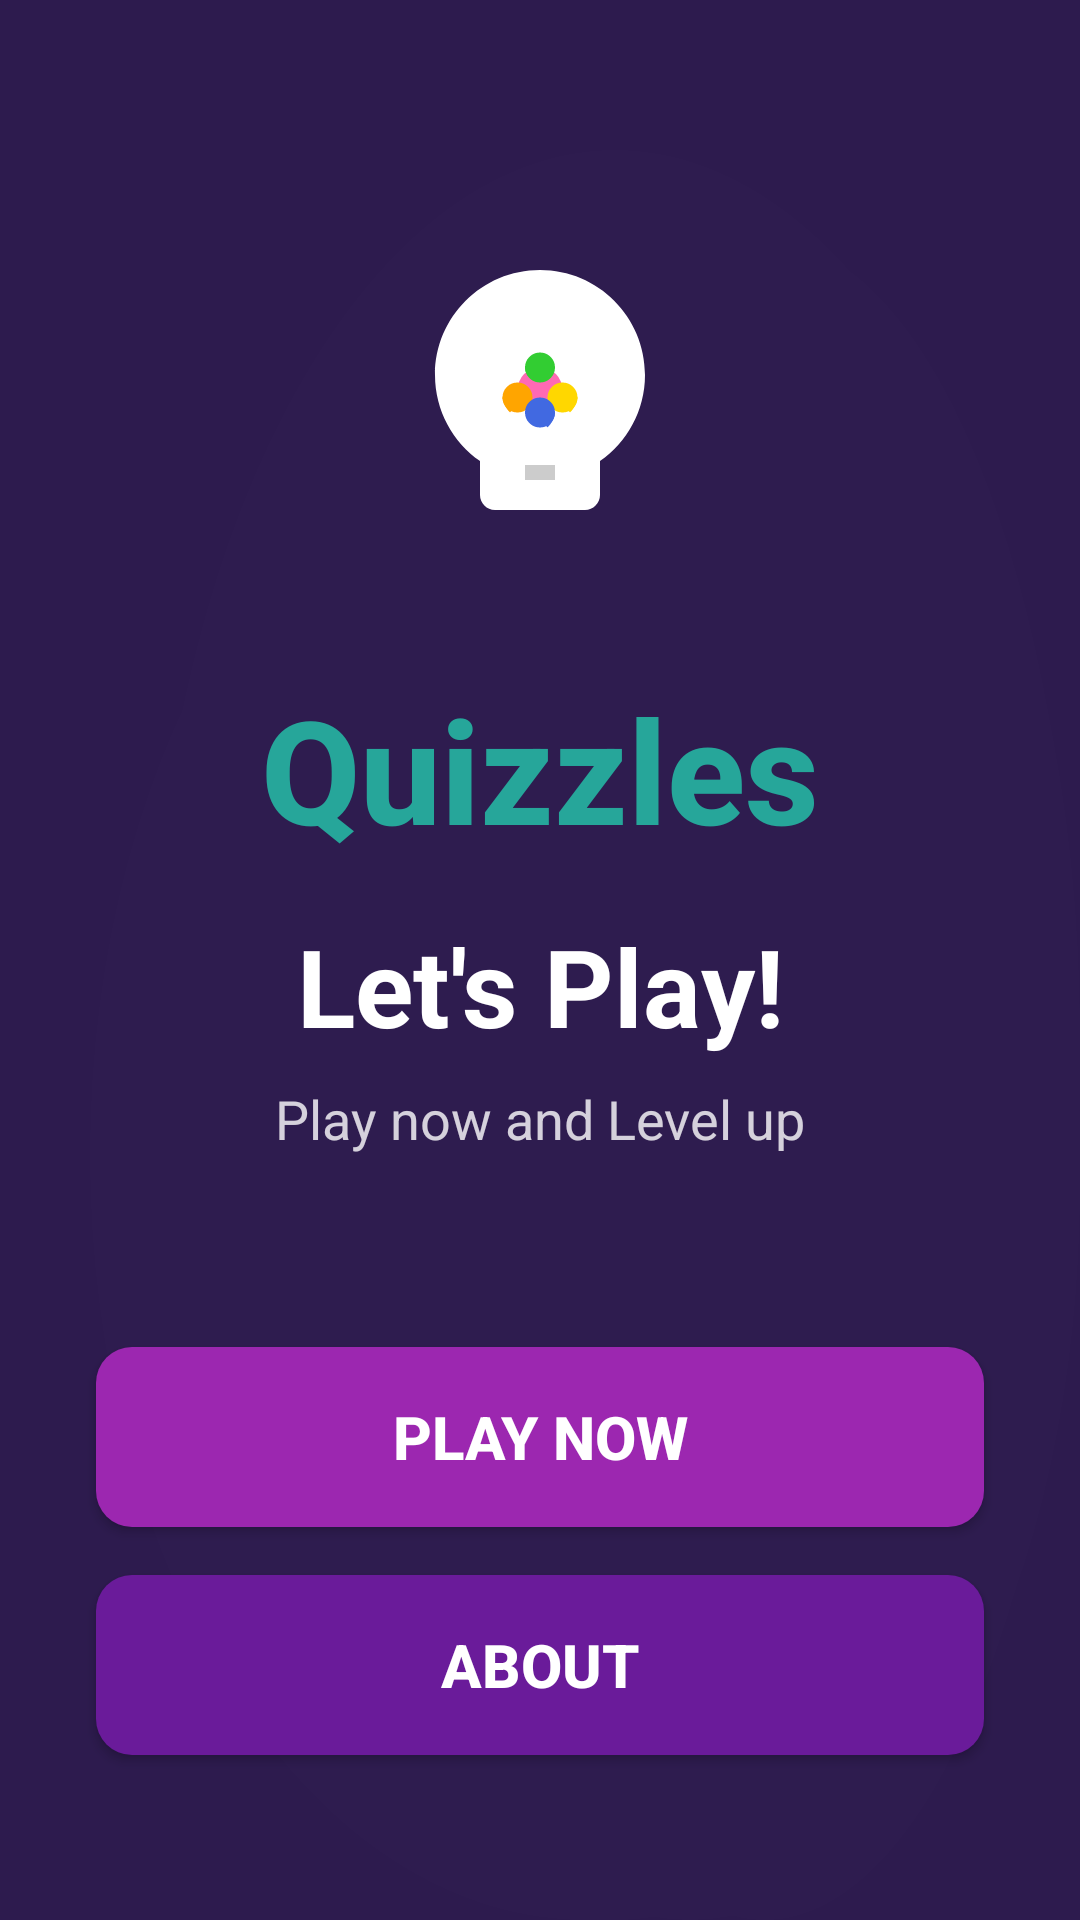

Locate icon controls on the screen. Image size 1080*1920, boxes as {"left": x1, "top": y1, "right": x2, "bottom": y2}.
lightbulb: {"left": 435, "top": 270, "right": 645, "bottom": 510}
